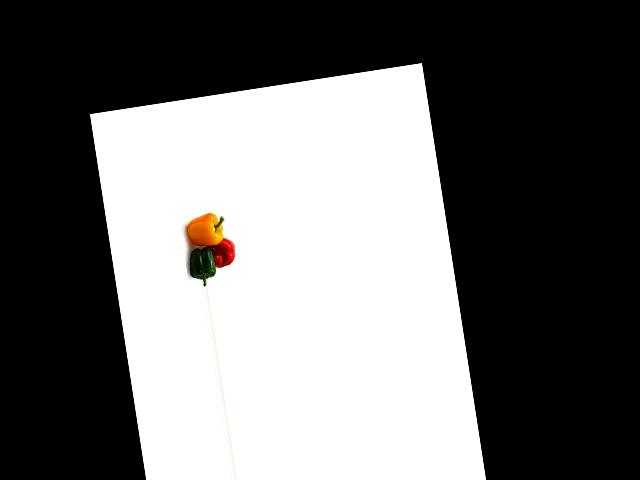bell_pepper: (185, 238, 221, 285)
